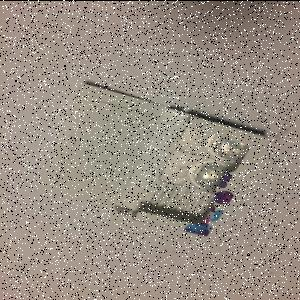Trash: (33, 84, 271, 238)
